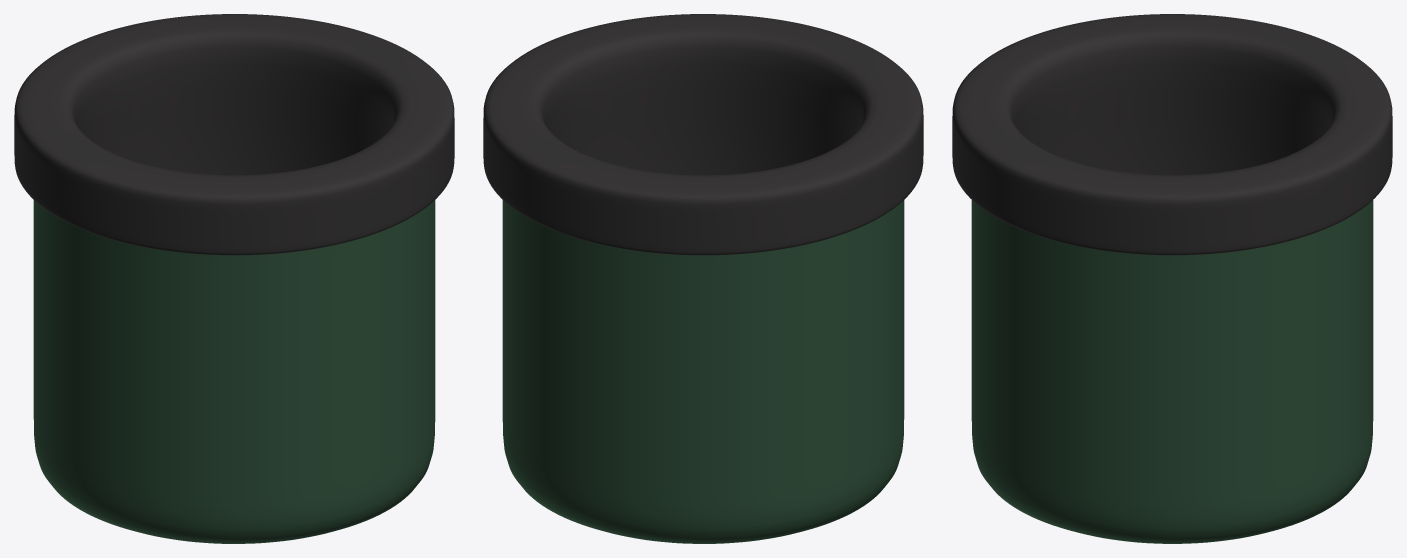
File: bin.fbx
3 renders of one model, left to right at view 1: azimuth 30°, elevation 25°; view 2: azimuth 150°, elevation 25°; view 3: azimuth 270°, elevation 25°, orthographic.
Parts seen in each view (by area): view 1: bin; view 2: bin; view 3: bin.
Boxes of the visible parts, x1,y1,x2,y2 form: bin: (14,14,454,543); bin: (483,14,923,543); bin: (952,14,1392,543).
Bounding box in the file's own units: 97.2 × 89.7 × 97.2.
